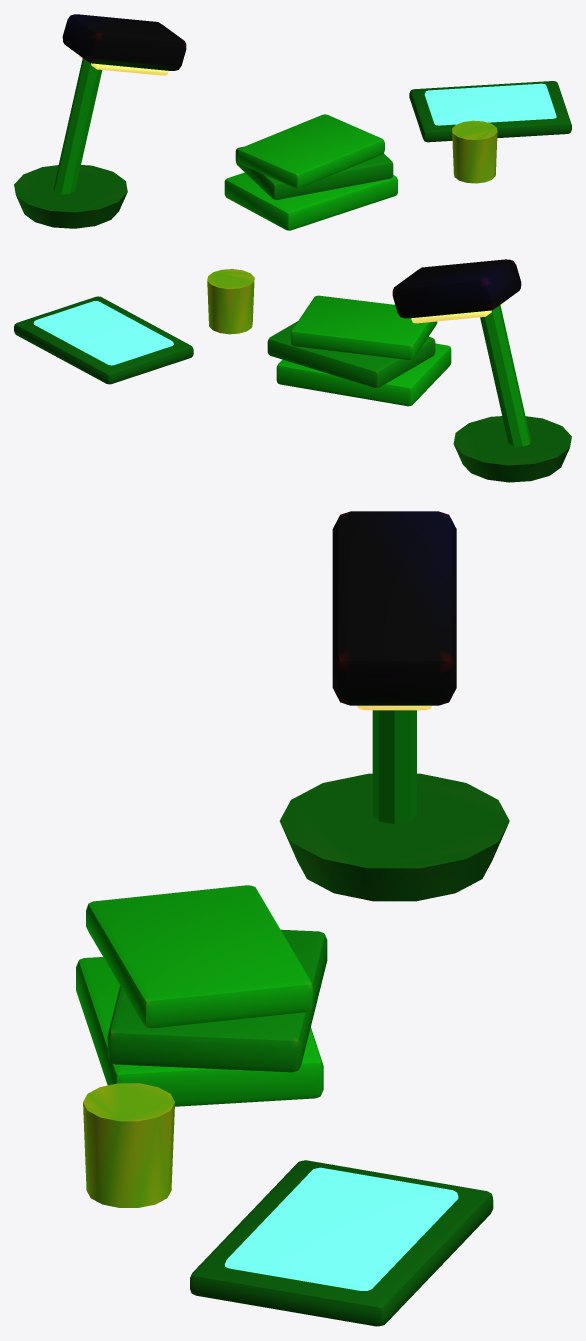
Rendered from hero_desk_clutter.glb.
The picture shows the model from 3 angles, top to bottom: view 1: azimuth 30°, elevation 25°; view 2: azimuth 150°, elevation 25°; view 3: azimuth 270°, elevation 25°; orthographic projection. The views are drawn at different scales.
Parts seen in each view (by area): view 1: HeroDeskClutter; view 2: HeroDeskClutter; view 3: HeroDeskClutter.
Part boxes in pixels (x1,y1,x2,y2): HeroDeskClutter: (14, 14, 571, 230); HeroDeskClutter: (14, 259, 571, 482); HeroDeskClutter: (76, 511, 509, 1326).
Bounding box in the file's own units: 1.39 × 0.452 × 0.4897.
